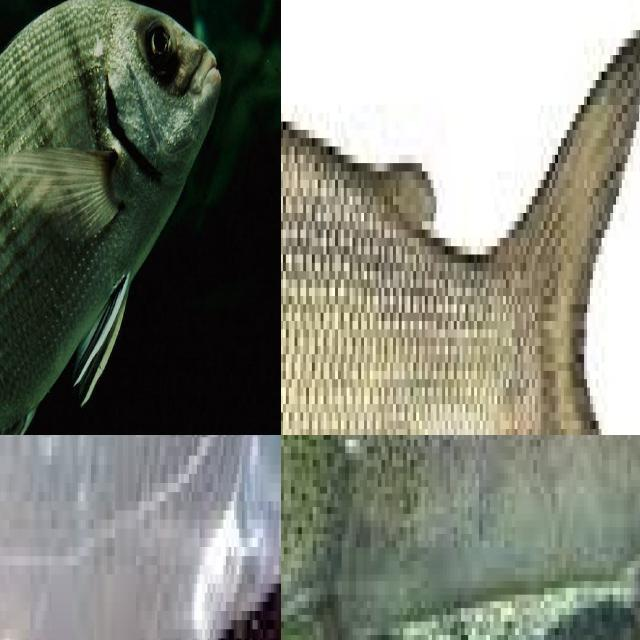fish: (281, 0, 616, 435), (0, 0, 281, 435), (0, 435, 281, 640)
